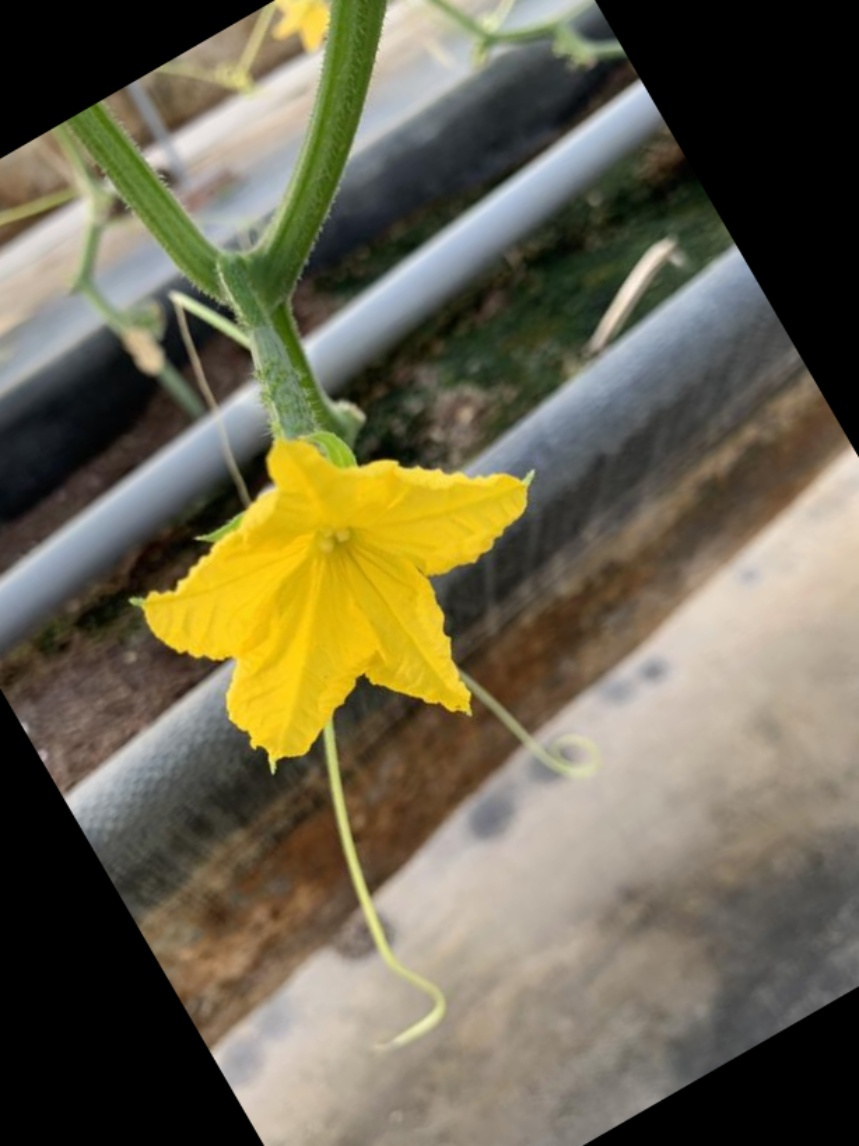flowering: (88, 296, 547, 787)
